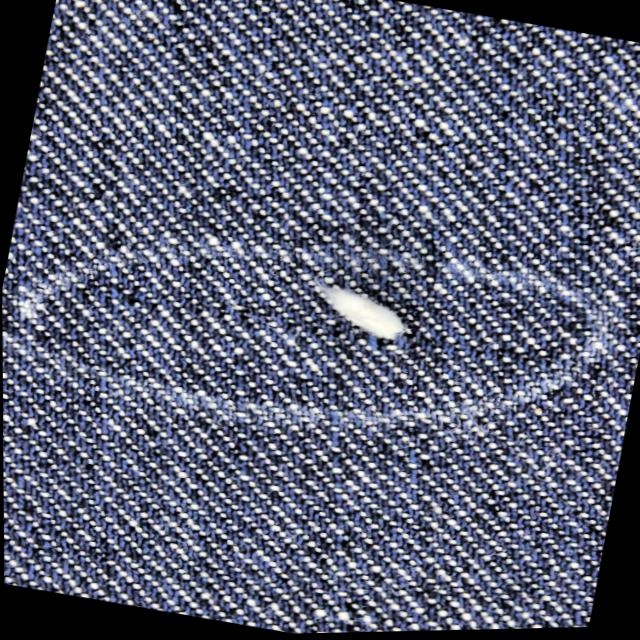Hole: (321, 283, 399, 338)
